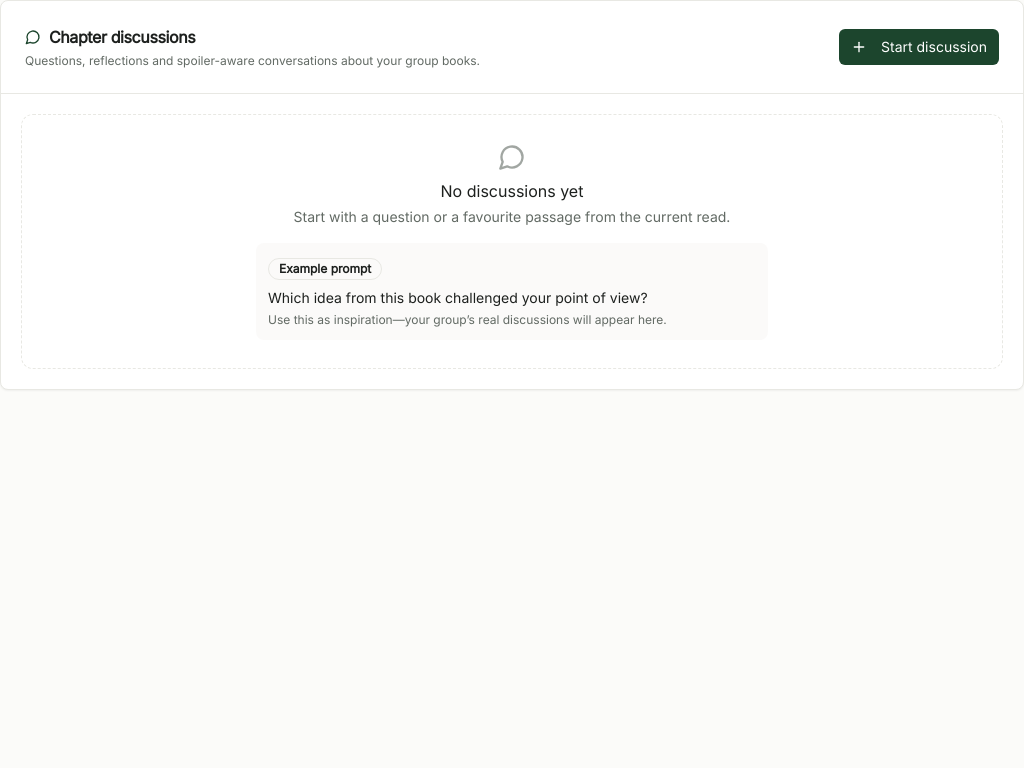
Scenario: GroupReadingDiscussions › uses the first non-archived book when there is no current title
Click the button "Start discussion" at (919, 47), box x1=839 y1=29 x2=999 y2=65
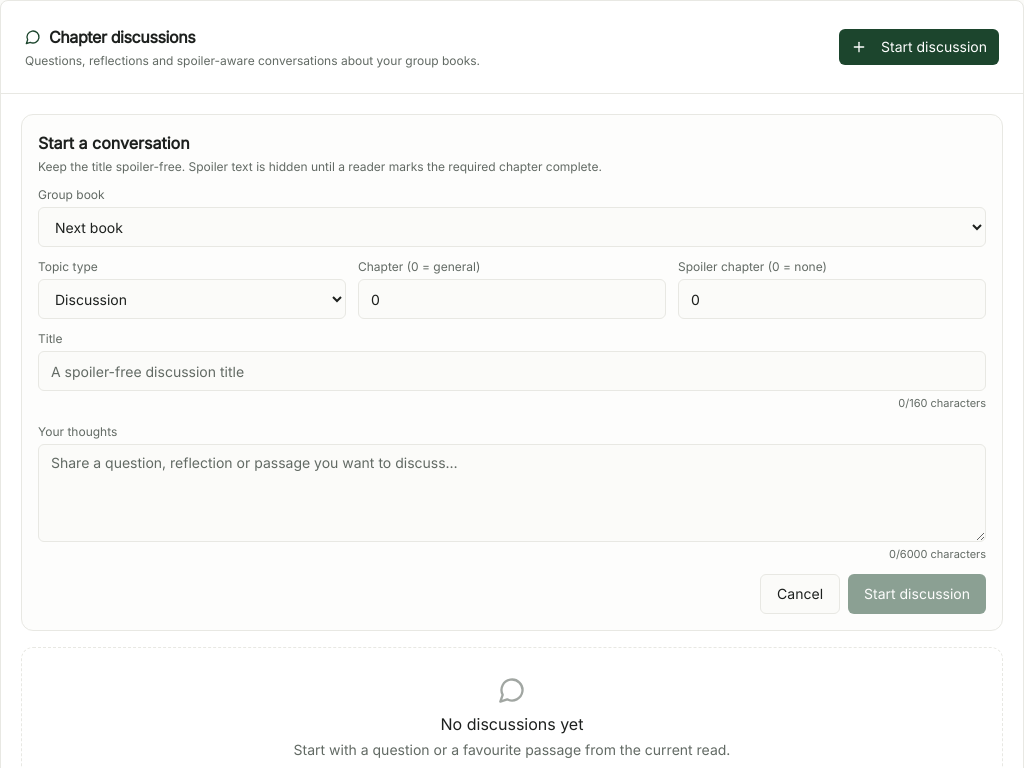
Now the dropdown labelled "Group book" shows "Next book", box x1=38 y1=207 x2=986 y2=247
